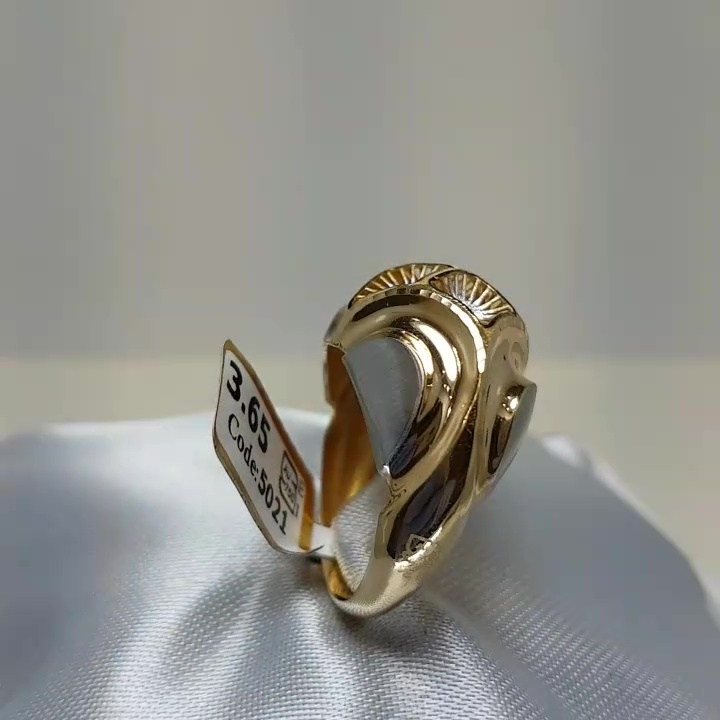Ring 2: (242, 233, 591, 641)
